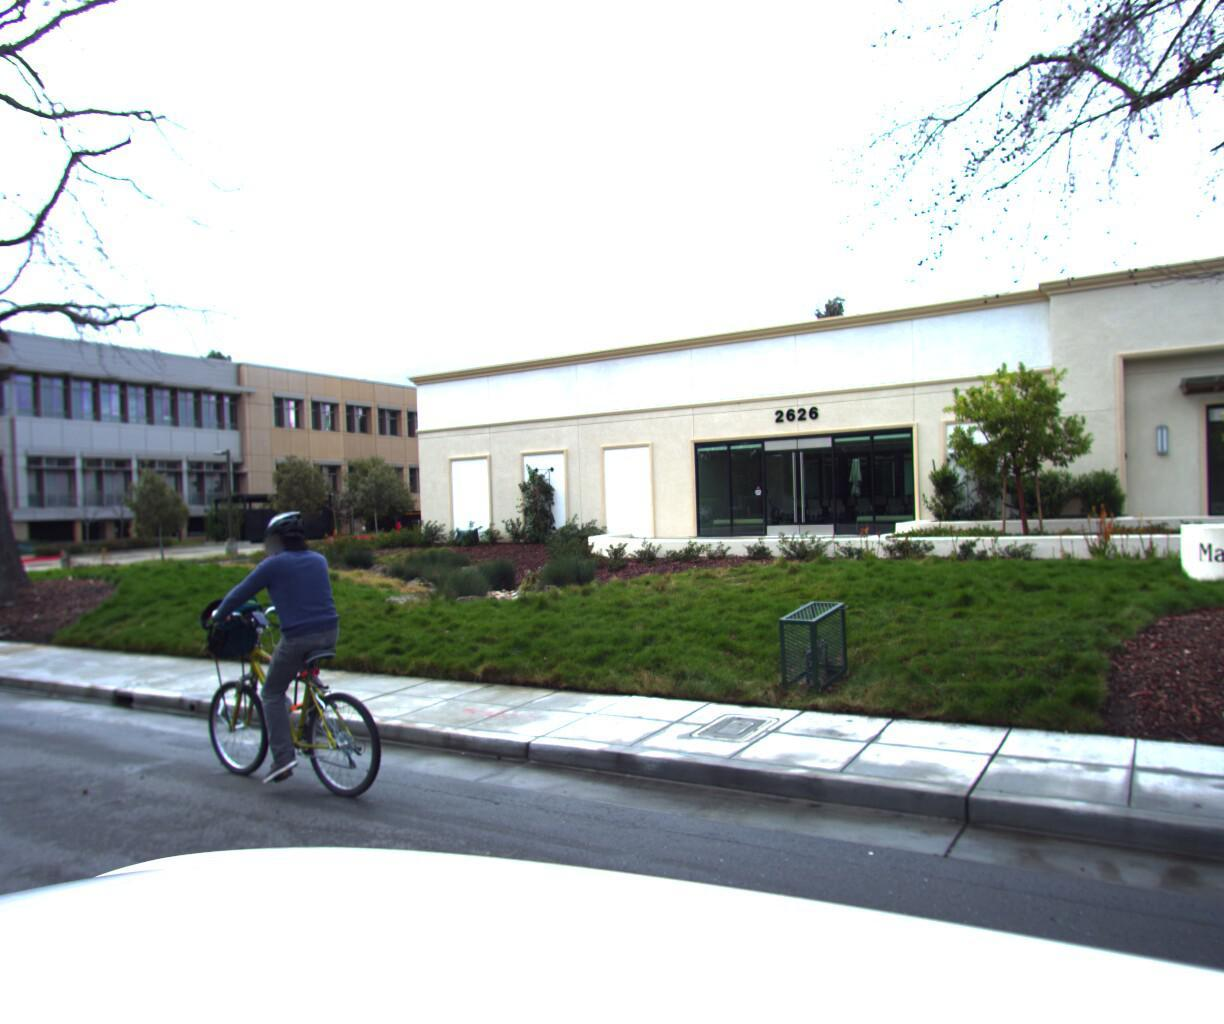bicycle: (125, 498, 418, 831)
